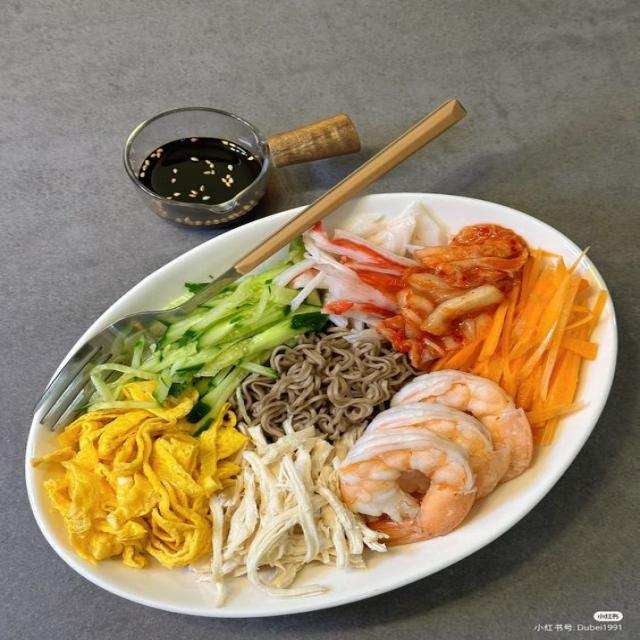Carbohydrate: (238, 327, 408, 445)
Kaow-Yum: (6, 187, 612, 639)
Protein: (29, 372, 531, 582), (293, 197, 447, 351)
Vegetable: (394, 222, 602, 448), (90, 270, 318, 422)
